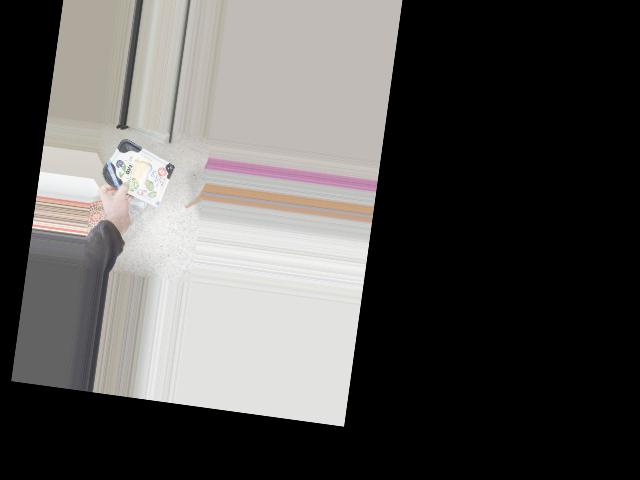cheese: (102, 146, 175, 202)
